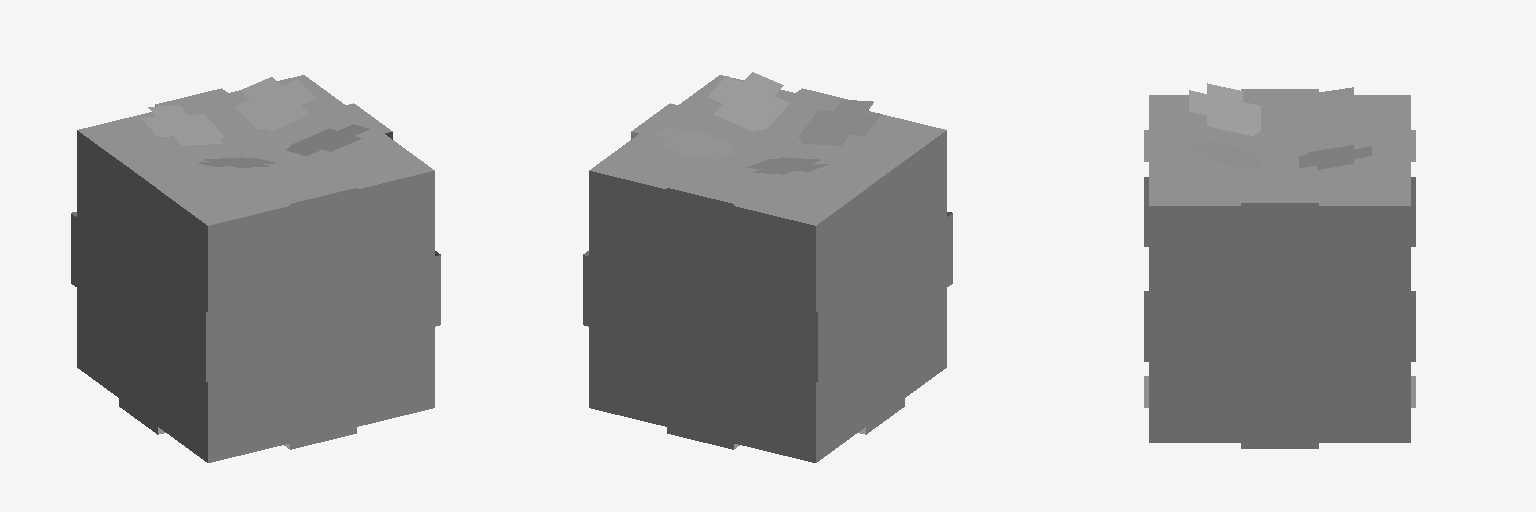
Rendered from present.obj.
3 views of the same model, side by side, from view 1: azimuth 30°, elevation 25°; view 2: azimuth 150°, elevation 25°; view 3: azimuth 270°, elevation 25° (orthographic).
Parts seen in each view (by area): view 1: layer1, layer2, layer3; view 2: layer1, layer2, layer3; view 3: layer1, layer2, layer3.
Boxes of the visible parts, x1,y1,x2,y2 form: layer1: [77, 75, 434, 462]; layer2: [119, 77, 392, 449]; layer3: [71, 212, 440, 381]; layer1: [589, 75, 946, 462]; layer2: [631, 72, 904, 449]; layer3: [583, 212, 952, 381]; layer1: [1149, 95, 1410, 442]; layer2: [1144, 83, 1415, 448]; layer3: [1144, 177, 1415, 361].
Bounding box in the file's own units: 0.9062 × 1 × 0.9062.